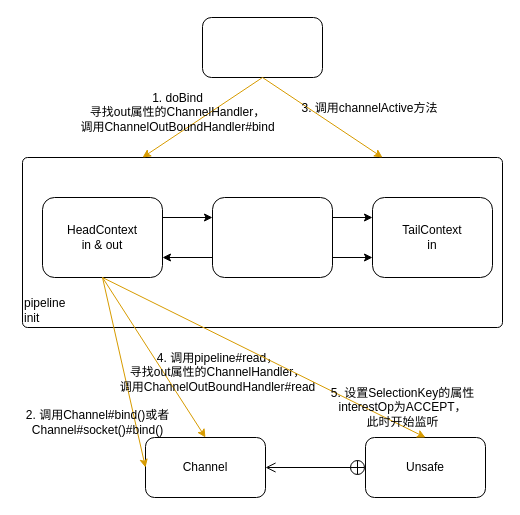
This 520x515 diagram has some shape labels left out. The shapes that lost their labels are listed below. From the top down, each one's centre as x and y in pixels, then its label:
the point at 262,47: EventLoop
the point at 272,237: ChanelInitializer in
